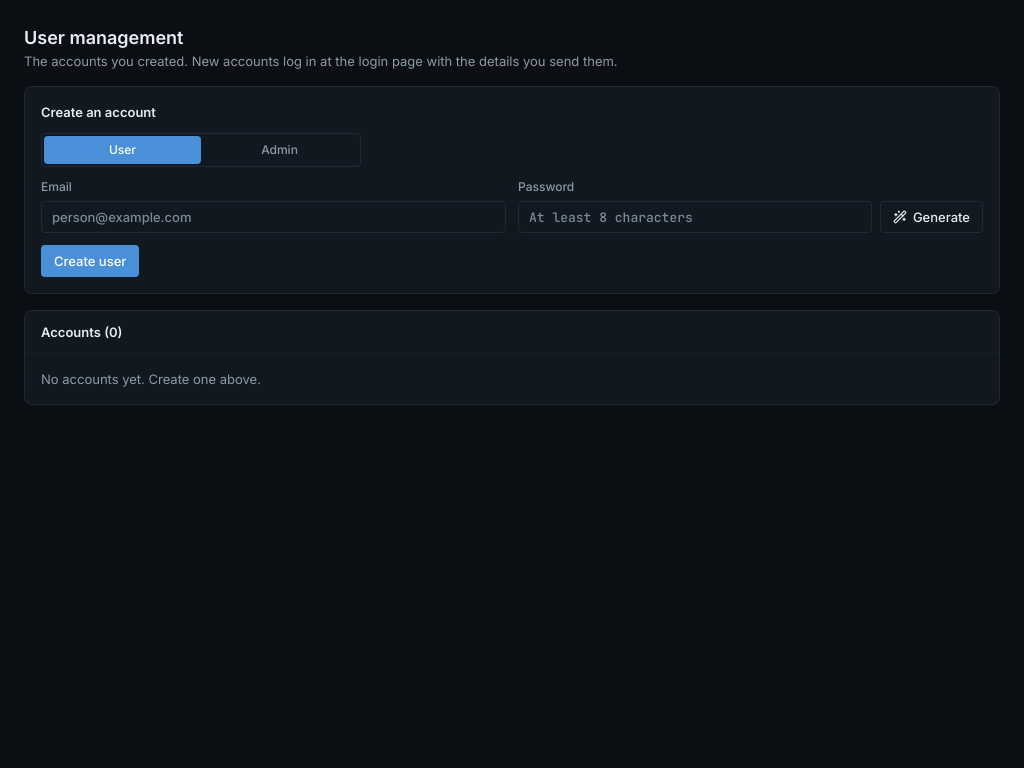
UserManagementPage › an admin with permission can create admins
Click the radio button labelled "Admin": (280, 150) [201,136,358,164]
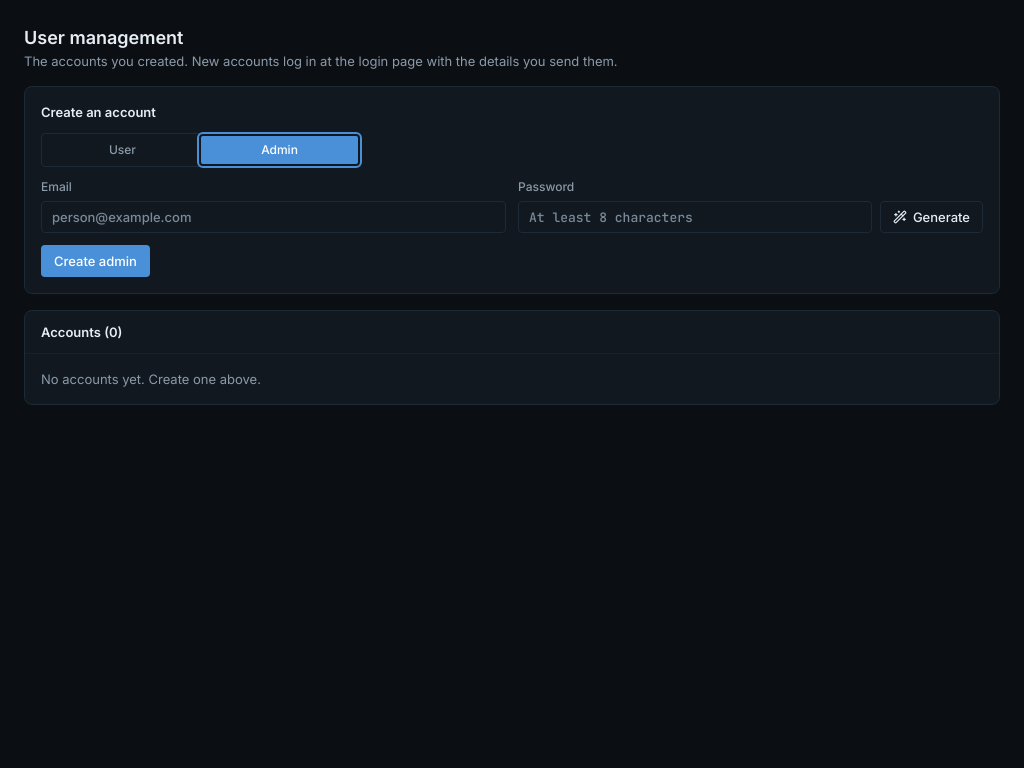
In the field labelled "Email": (274, 217) [41,201,506,233], type "admin3@x.co"
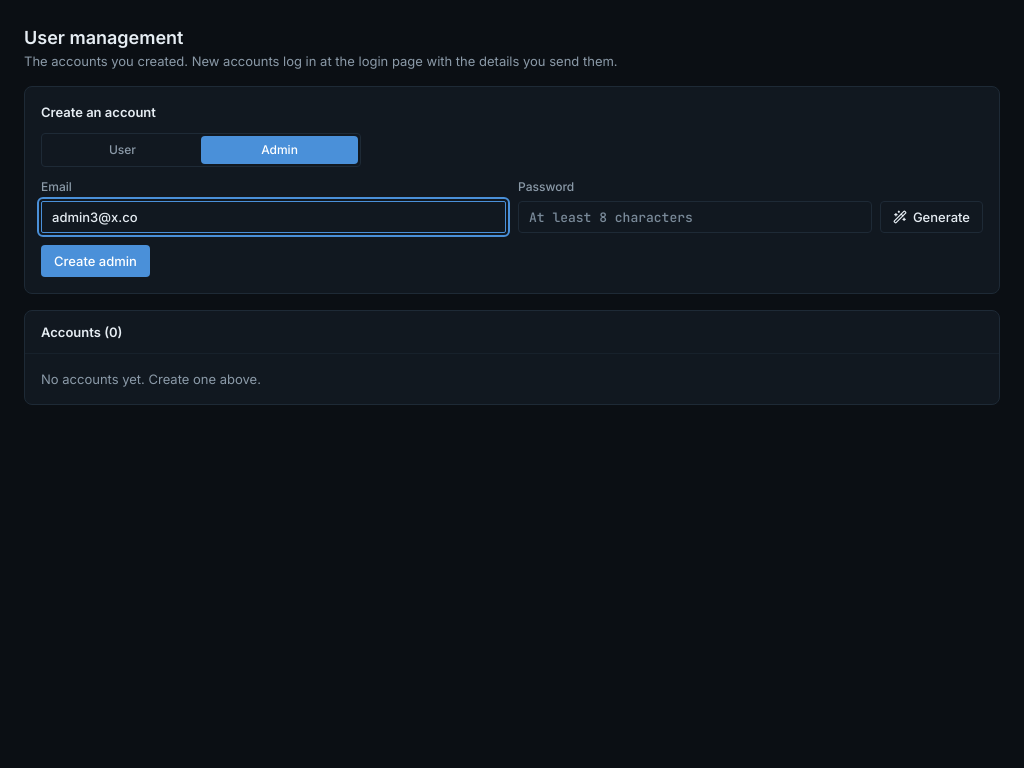
Click the button "Generate": (931, 217) [880,201,983,233]
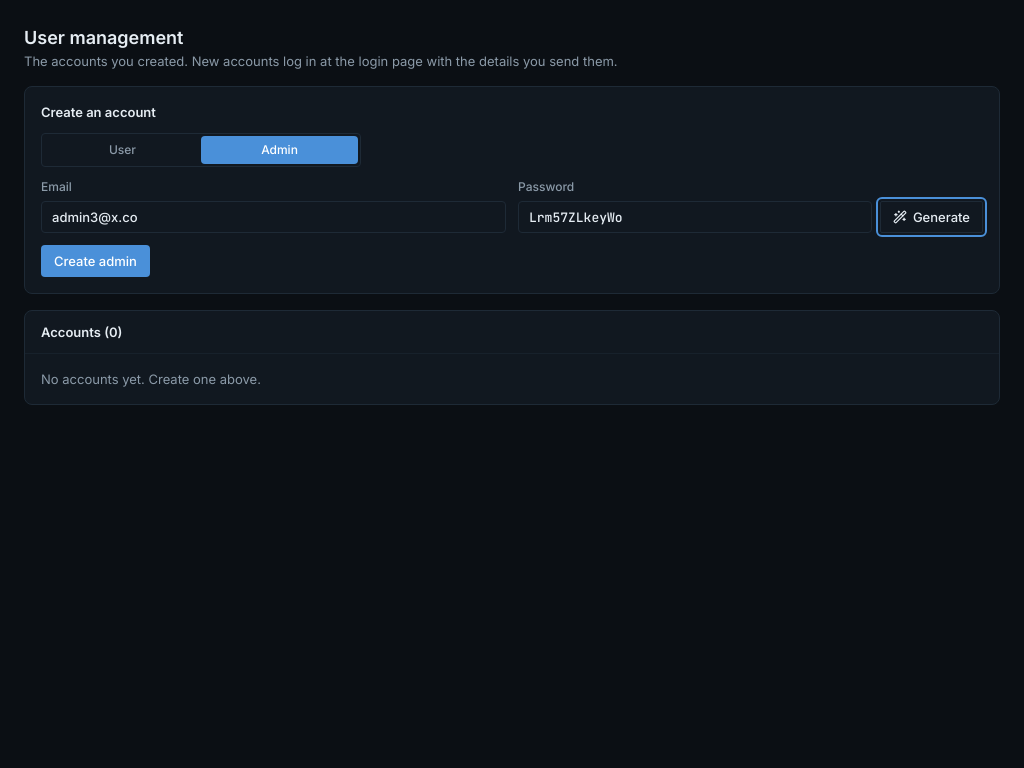
Click the button "Create admin": (95, 261) [41,245,150,277]
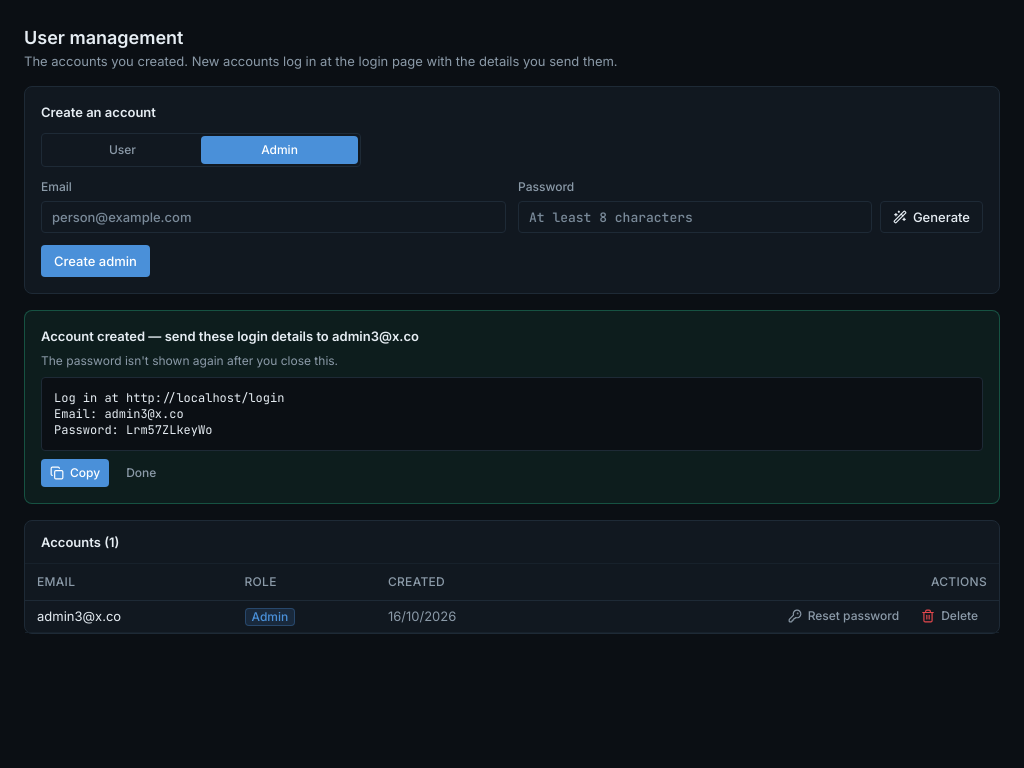
Check: the message is shown, box [24,310,1000,504]
